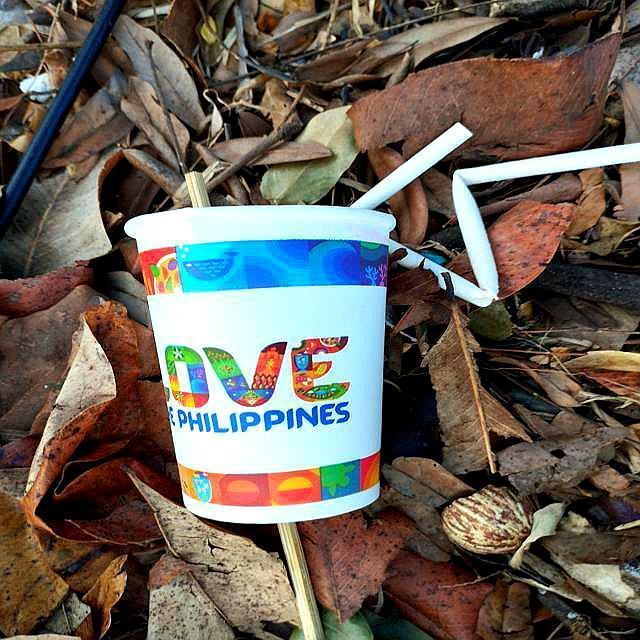Biodegradable: (125, 204, 396, 526)
